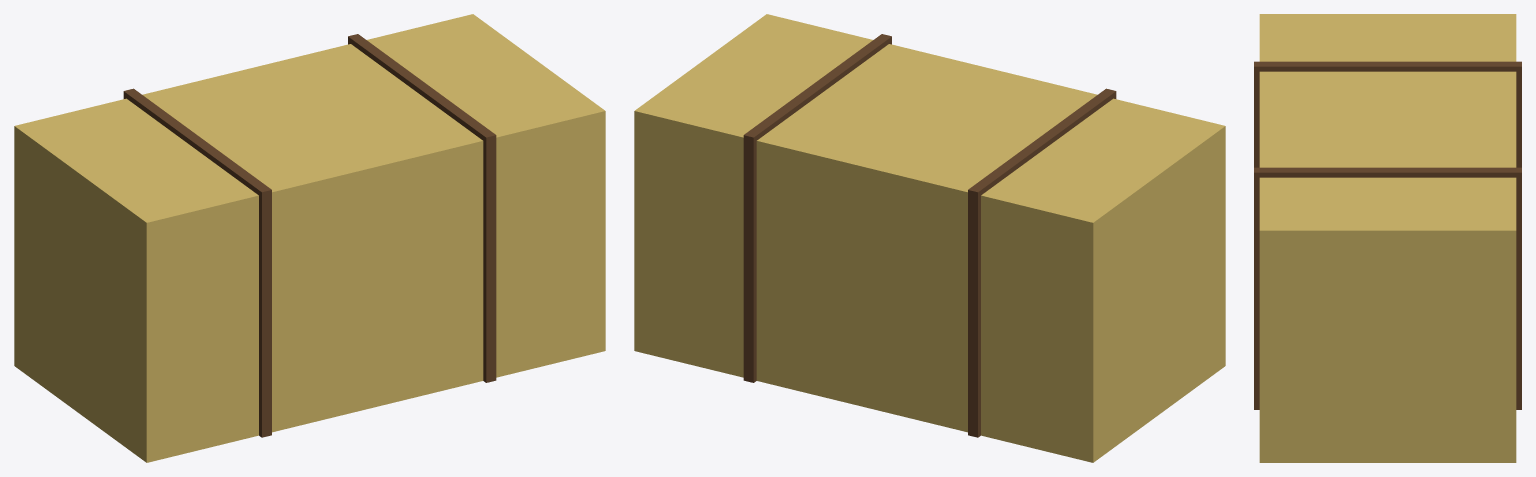
Rendered from GT_HayBale_Square_01.glb.
The picture shows the model from 3 angles, left to right: view 1: azimuth 30°, elevation 25°; view 2: azimuth 150°, elevation 25°; view 3: azimuth 270°, elevation 25°; orthographic projection. The views are drawn at different scales.
Parts seen in each view (by area): view 1: GT_HayBale_Square_01; view 2: GT_HayBale_Square_01; view 3: GT_HayBale_Square_01.
Part boxes in pixels (x1=…): GT_HayBale_Square_01: x1=14, y1=14, x2=605, y2=462; GT_HayBale_Square_01: x1=634, y1=14, x2=1225, y2=462; GT_HayBale_Square_01: x1=1254, y1=14, x2=1521, y2=462.
Size of the model in its own units: 0.9 by 0.46 by 0.47.
Materials: 1 (1 with a texture image).
